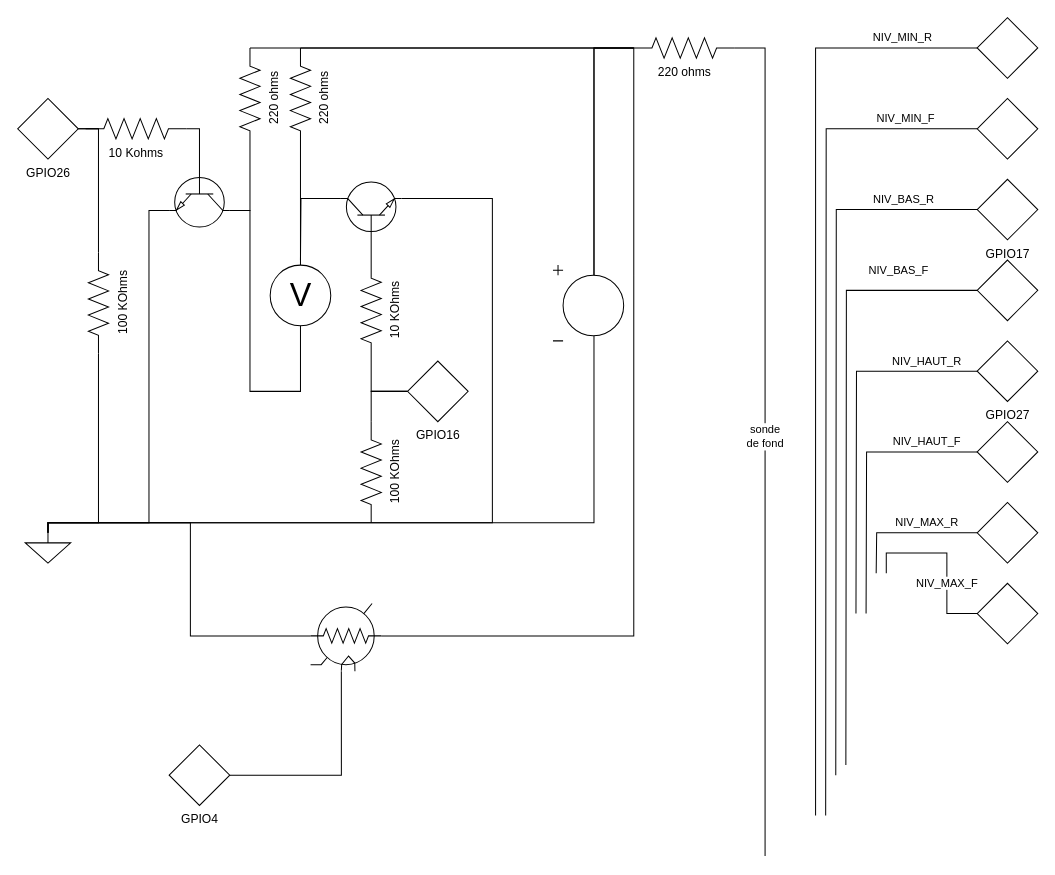
Image size: 1055x875. Some labels were removed from this diagram. The shapes that lost their labels are listed below. From the top down, each one's box as (x1, y1, x2, y2) in pixels, then its label:
(976, 17, 1038, 78): GPIO5
(976, 97, 1038, 159): GPIO12
(976, 259, 1038, 321): GPIO23
(976, 421, 1038, 482): GPIO24
(976, 501, 1038, 563): GPIO22
(976, 582, 1038, 644): GPIO25
(310, 602, 381, 671): thermistor
